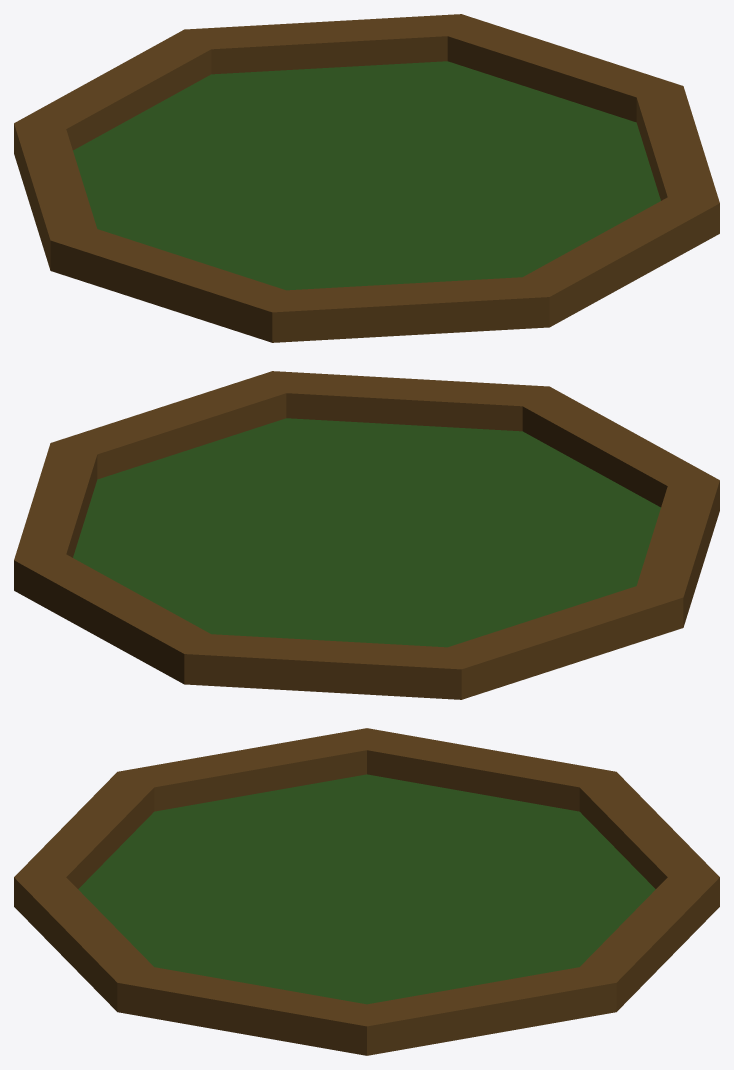
The model's file is SM_Table_Round_Low.fbx.
3 renders of one model, top to bottom at view 1: azimuth 30°, elevation 25°; view 2: azimuth 150°, elevation 25°; view 3: azimuth 270°, elevation 25°, orthographic. The views are drawn at different scales.
Visible parts, largest first — view 1: SM_Table_Round_Low; view 2: SM_Table_Round_Low; view 3: SM_Table_Round_Low.
Boxes of the visible parts, x1,y1,x2,y2 form: SM_Table_Round_Low: (14,14,719,342); SM_Table_Round_Low: (14,371,719,699); SM_Table_Round_Low: (14,728,719,1055).
Size of the model in its own units: 128 by 5.87 by 128.
